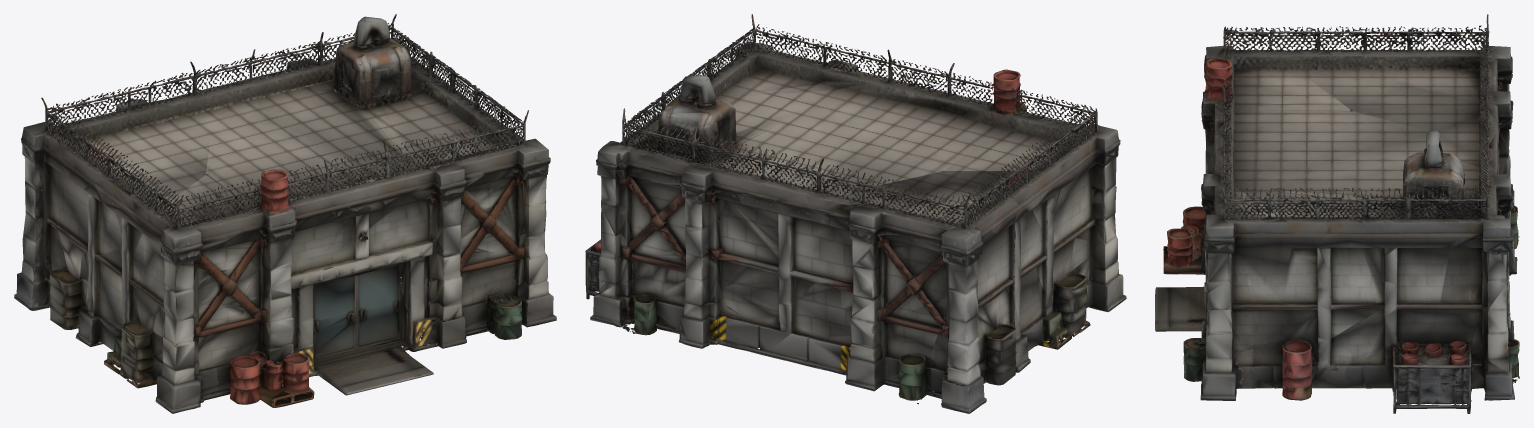
Rendered from bunker_store.glb.
The picture shows the model from 3 angles, left to right: view 1: azimuth 30°, elevation 25°; view 2: azimuth 150°, elevation 25°; view 3: azimuth 270°, elevation 25°; orthographic projection.
Visible parts, largest first — view 1: bunker_store; view 2: bunker_store; view 3: bunker_store.
Boxes of the visible parts, x1=… form: bunker_store: x1=14, y1=14, x2=556, y2=413; bunker_store: x1=585, y1=14, x2=1126, y2=413; bunker_store: x1=1155, y1=14, x2=1519, y2=413.
Size of the model in its own units: 1.9 by 1.04 by 1.46.
1 material, 1 textured.
